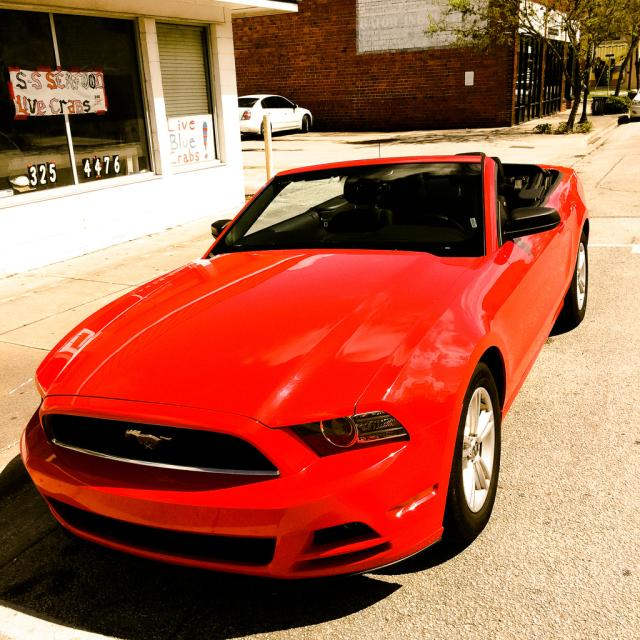car: (18, 149, 591, 584)
